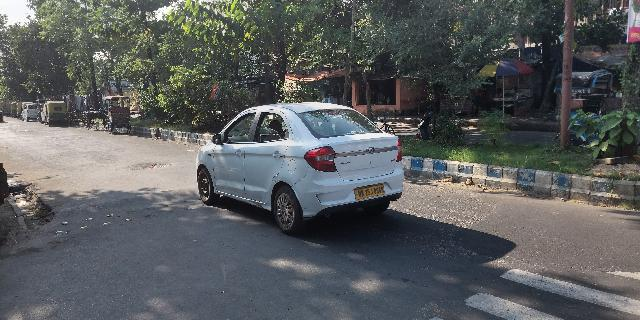Autorickshaw: (37, 98, 71, 127)
Car: (183, 97, 409, 235)
Rickshaw: (94, 95, 136, 132)
